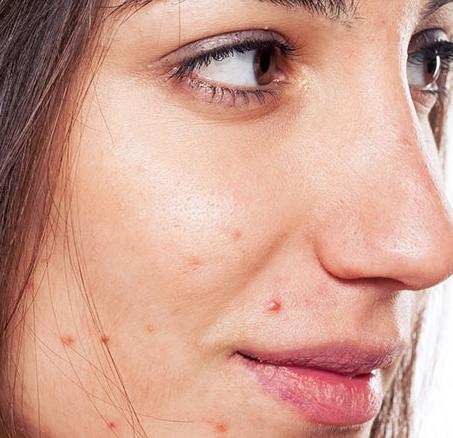Acne: (61, 332, 73, 348), (266, 298, 280, 311), (95, 332, 109, 345), (108, 420, 116, 430)
